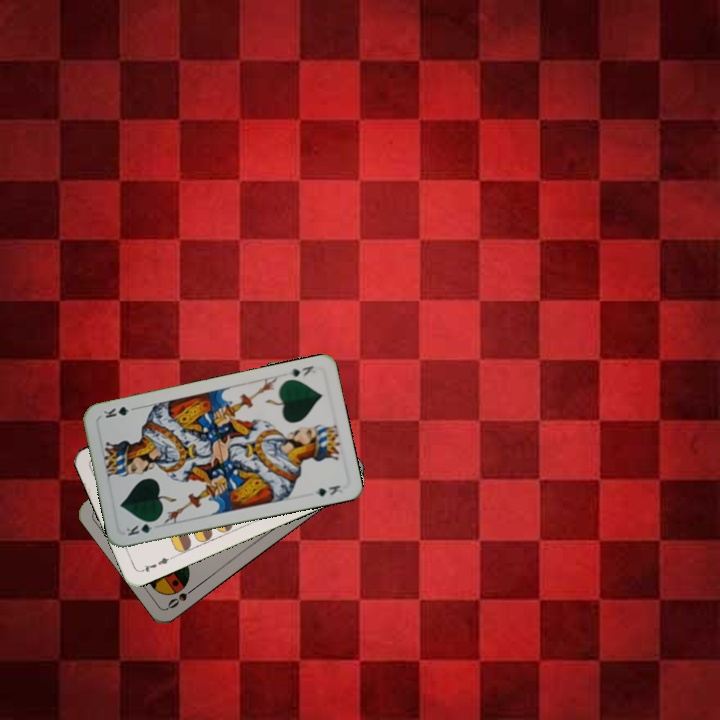E7: (137, 553, 176, 575)
GK: (122, 516, 160, 538), (285, 361, 316, 379)
SO: (163, 582, 199, 611)
